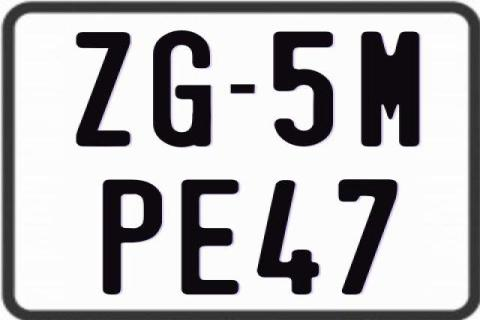0: (256, 179, 322, 296), (271, 29, 332, 149), (335, 177, 398, 293)
E: (180, 179, 240, 297)
G: (150, 30, 212, 148)
M: (360, 31, 422, 150)
P: (101, 178, 164, 294)
Z: (74, 30, 132, 150)
